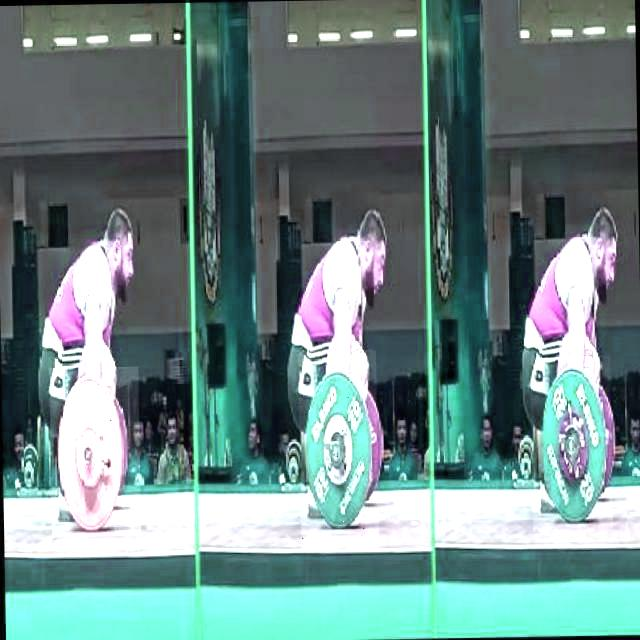barbell: (297, 350, 380, 549), (50, 367, 141, 537), (530, 355, 614, 532)
